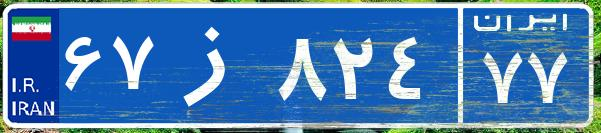2: (330, 28, 385, 110)
4: (385, 28, 445, 110)
6: (57, 26, 110, 107)
7: (475, 38, 525, 113), (110, 28, 158, 105), (525, 38, 570, 115)
8: (273, 28, 330, 110)
ز: (158, 15, 273, 115)
